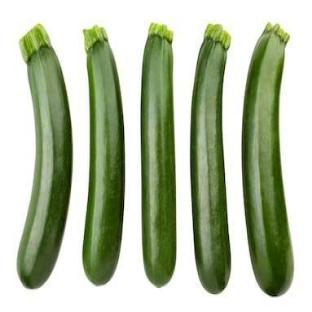Zucchini: (18, 26, 72, 287), (242, 24, 293, 295), (191, 24, 230, 293), (84, 27, 124, 284), (141, 24, 175, 286)
